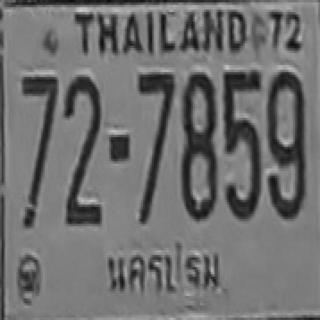N02: (62, 74, 100, 204)
N05: (222, 69, 260, 218), (222, 69, 260, 203)
N07: (136, 70, 174, 214), (20, 74, 57, 204), (136, 70, 174, 185), (136, 70, 174, 173), (20, 75, 57, 173), (20, 74, 57, 164)
N08: (180, 70, 215, 219)
N09: (266, 71, 304, 218)
P28: (101, 234, 227, 305)
